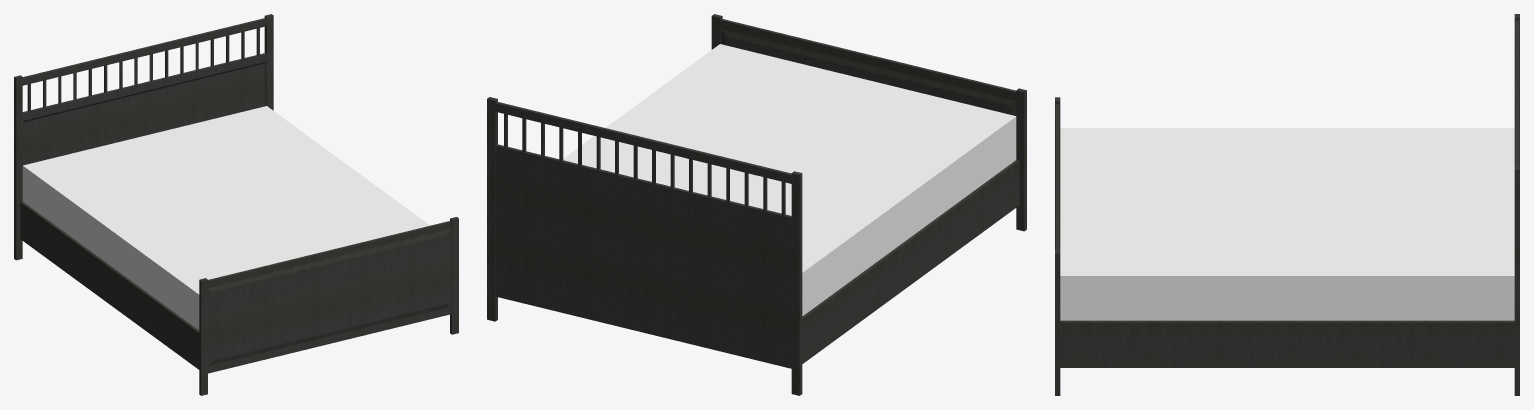
3 renders of one model, left to right at view 1: azimuth 30°, elevation 25°; view 2: azimuth 150°, elevation 25°; view 3: azimuth 270°, elevation 25°, orthographic. The views are drawn at different scales.
Parts seen in each view (by area): view 1: Mesh1 Hemnes___Queen_Bed_Frame1 Model; view 2: Mesh1 Hemnes___Queen_Bed_Frame1 Model; view 3: Mesh1 Hemnes___Queen_Bed_Frame1 Model.
Boxes of the visible parts, x1,y1,x2,y2 form: Mesh1 Hemnes___Queen_Bed_Frame1 Model: [14, 14, 458, 395]; Mesh1 Hemnes___Queen_Bed_Frame1 Model: [487, 14, 1026, 395]; Mesh1 Hemnes___Queen_Bed_Frame1 Model: [1055, 14, 1519, 395].
Bounding box in the file's own units: 63.48 × 42.88 × 79.94.
